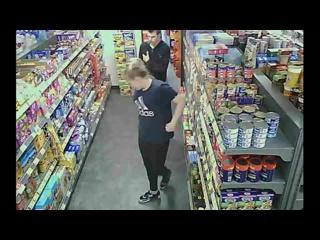Normal: (122, 59, 186, 204), (138, 30, 170, 82)
